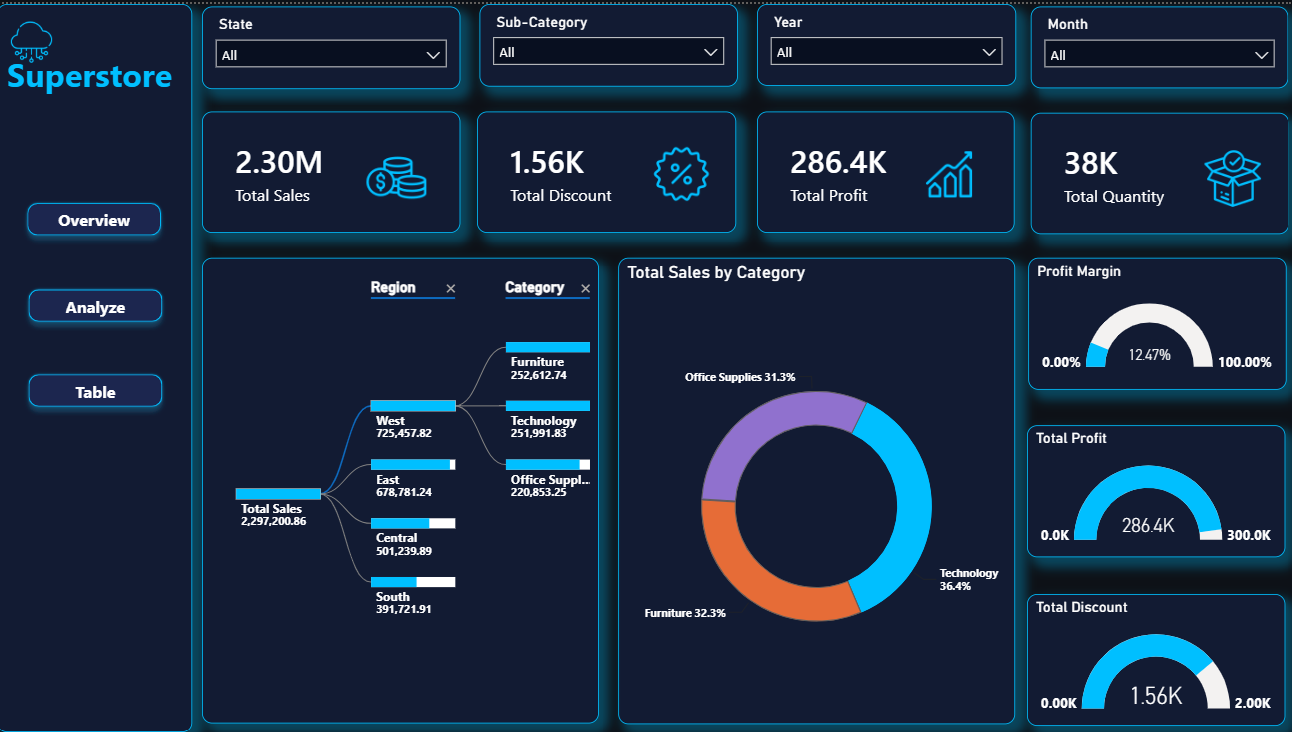

The page's visual inventory and layout, read from the dashboard file:
{"tool":"powerbi","page":{"name":"Overview","canvas":[1280,720],"ordinal":0},"visuals":[{"type":"shape","box":[0,0,192.9,720.2],"z":0},{"type":"actionButton","box":[20.4,188.1,150,50],"z":1000},{"type":"actionButton","box":[21.9,272.4,150,50],"z":2000},{"type":"actionButton","box":[22.5,356.7,150,50],"z":3000},{"type":"slicer","fields":{"Values":["Dim_Country.State"]},"box":[202.4,2.4,255,81.5],"z":4000},{"type":"slicer","fields":{"Values":["Dim_Sub-Category.Sub-Category"]},"box":[476.2,0,255,81.5],"z":5000},{"type":"slicer","fields":{"Values":["Fact_Orders.Year"]},"box":[750,0,256,81],"z":6000},{"type":"slicer","fields":{"Values":["Fact_Orders.Month_Name"]},"box":[1021.4,2.4,254.8,81],"z":7000},{"type":"cardVisual","fields":{"Data":["DAX_Measure (2).Total Sales"]},"box":[202.2,106.5,255,120],"z":8000},{"type":"cardVisual","fields":{"Data":["DAX_Measure (2).Total Profit"]},"box":[750,106,254.8,120.2],"z":9000},{"type":"cardVisual","fields":{"Data":["DAX_Measure (2).Total Quantity"]},"box":[1021.4,107.1,255,120],"z":10000},{"type":"cardVisual","fields":{"Data":["DAX_Measure (2).Total Discount"]},"box":[474.6,106.7,256,120],"z":11000},{"type":"donutChart","fields":{"Y":["DAX_Measure (2).Total Sales"],"Category":["Dim_Category.Category"]},"box":[613.1,250,392,460.7],"z":12000},{"type":"decompositionTreeVisual","fields":{"Analyze":["DAX_Measure (2).Total Sales"],"ExplainBy":["Dim_Region.Region","Dim_Category.Category"]},"box":[202.4,250,392,460],"z":13000},{"type":"gauge","title":"Profit Margin","fields":{"Y":["DAX_Measure (2).Profit Margin"]},"box":[1019,250,255,130],"z":14000},{"type":"gauge","fields":{"Y":["DAX_Measure (2).Total Profit"]},"box":[1017.9,415.5,255,130],"z":15000},{"type":"gauge","fields":{"Y":["DAX_Measure (2).Total Discount"]},"box":[1017.9,582.1,255,130],"z":16000},{"type":"image","box":[359.5,141.7,70.2,59.5],"z":17000},{"type":"image","box":[640.5,138.1,70.2,59.5],"z":18000},{"type":"image","box":[910.2,137.6,60.7,61.9],"z":19000},{"type":"image","box":[1188.1,144,65,56],"z":20000},{"type":"textbox","box":[4.8,42.9,184.5,63.1],"z":21000},{"type":"image","box":[2.4,17.9,63.1,40.5],"z":22000}]}

Visuals, with their boxes in screenshot pixels (x1, y1, x2, y2), scaled from the page's 1280x720 canvas onto the 1292x732 screenshot:
shape: [left=0, top=0, right=195, bottom=731]
actionButton: [left=21, top=191, right=172, bottom=242]
actionButton: [left=22, top=277, right=174, bottom=328]
actionButton: [left=23, top=363, right=174, bottom=413]
slicer - Dim_Country.State: [left=204, top=2, right=462, bottom=85]
slicer - Dim_Sub-Category.Sub-Category: [left=481, top=0, right=738, bottom=83]
slicer - Fact_Orders.Year: [left=757, top=0, right=1015, bottom=82]
slicer - Fact_Orders.Month_Name: [left=1031, top=2, right=1288, bottom=85]
cardVisual - DAX_Measure (2).Total Sales: [left=204, top=108, right=461, bottom=230]
cardVisual - DAX_Measure (2).Total Profit: [left=757, top=108, right=1014, bottom=230]
cardVisual - DAX_Measure (2).Total Quantity: [left=1031, top=109, right=1288, bottom=231]
cardVisual - DAX_Measure (2).Total Discount: [left=479, top=108, right=737, bottom=230]
donutChart - DAX_Measure (2).Total Sales x Dim_Category.Category: [left=619, top=254, right=1015, bottom=723]
decompositionTreeVisual - DAX_Measure (2).Total Sales x Dim_Region.Region: [left=204, top=254, right=600, bottom=722]
"Profit Margin" gauge: [left=1029, top=254, right=1286, bottom=386]
gauge - DAX_Measure (2).Total Profit: [left=1027, top=422, right=1285, bottom=555]
gauge - DAX_Measure (2).Total Discount: [left=1027, top=592, right=1285, bottom=724]
image: [left=363, top=144, right=434, bottom=205]
image: [left=647, top=140, right=717, bottom=201]
image: [left=919, top=140, right=980, bottom=203]
image: [left=1199, top=146, right=1265, bottom=203]
textbox: [left=5, top=44, right=191, bottom=108]
image: [left=2, top=18, right=66, bottom=59]
